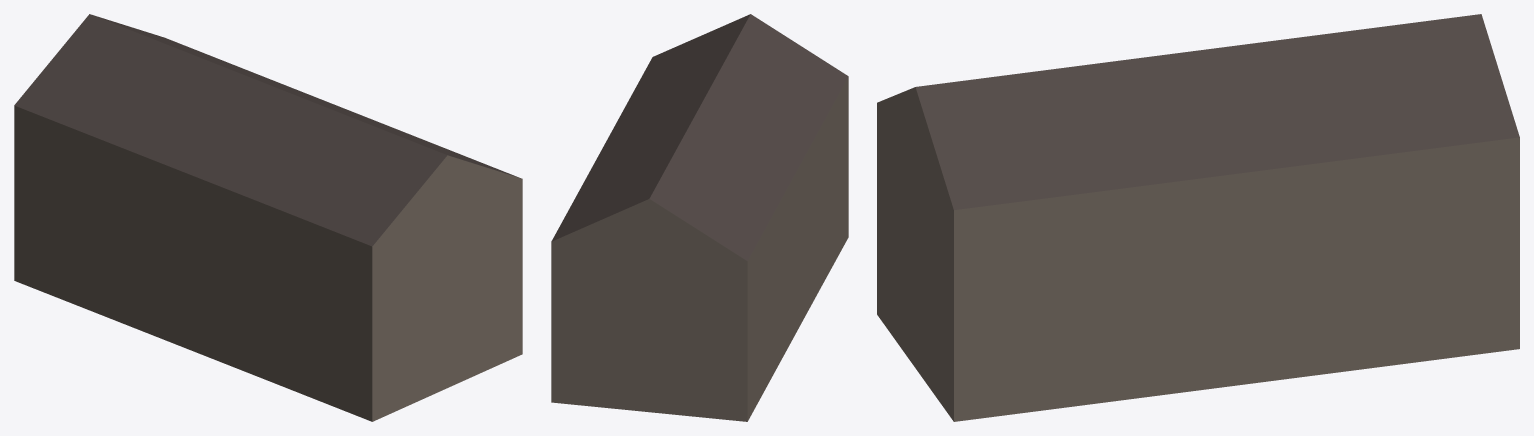
The picture shows the model from 3 angles, left to right: view 1: azimuth 30°, elevation 25°; view 2: azimuth 150°, elevation 25°; view 3: azimuth 270°, elevation 25°; orthographic projection. The views are drawn at different scales.
Visible parts, largest first — view 1: HP-w1198840869; view 2: HP-w1198840869; view 3: HP-w1198840869.
Part boxes in pixels (x1,y1,x2,y2): HP-w1198840869: (14,14,522,421); HP-w1198840869: (551,14,848,421); HP-w1198840869: (877,14,1519,421).
Bounding box in the file's own units: 10.97 × 7.97 × 16.51.
